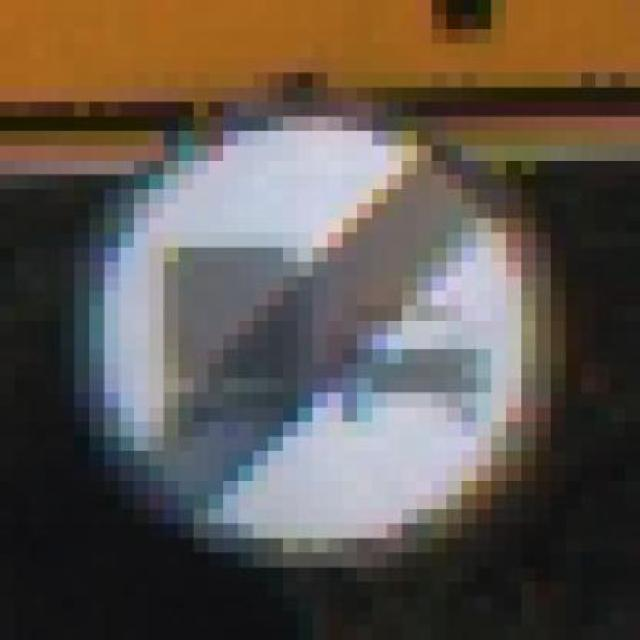Overtaking by trucks is prohibited: (59, 44, 596, 582)
